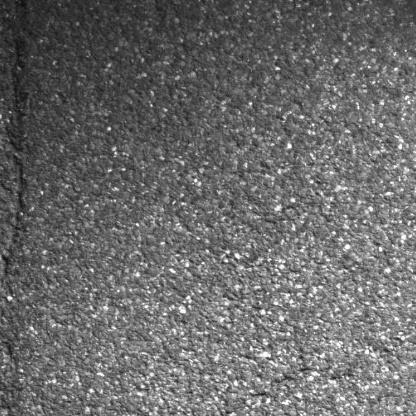Cracks: (0, 40, 38, 299)
